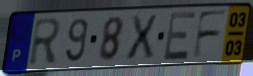8: (98, 15, 125, 63)
9: (64, 17, 89, 64)
E: (162, 9, 199, 62)
F: (190, 9, 230, 61)
R: (27, 16, 64, 68)
X: (124, 13, 159, 63)
